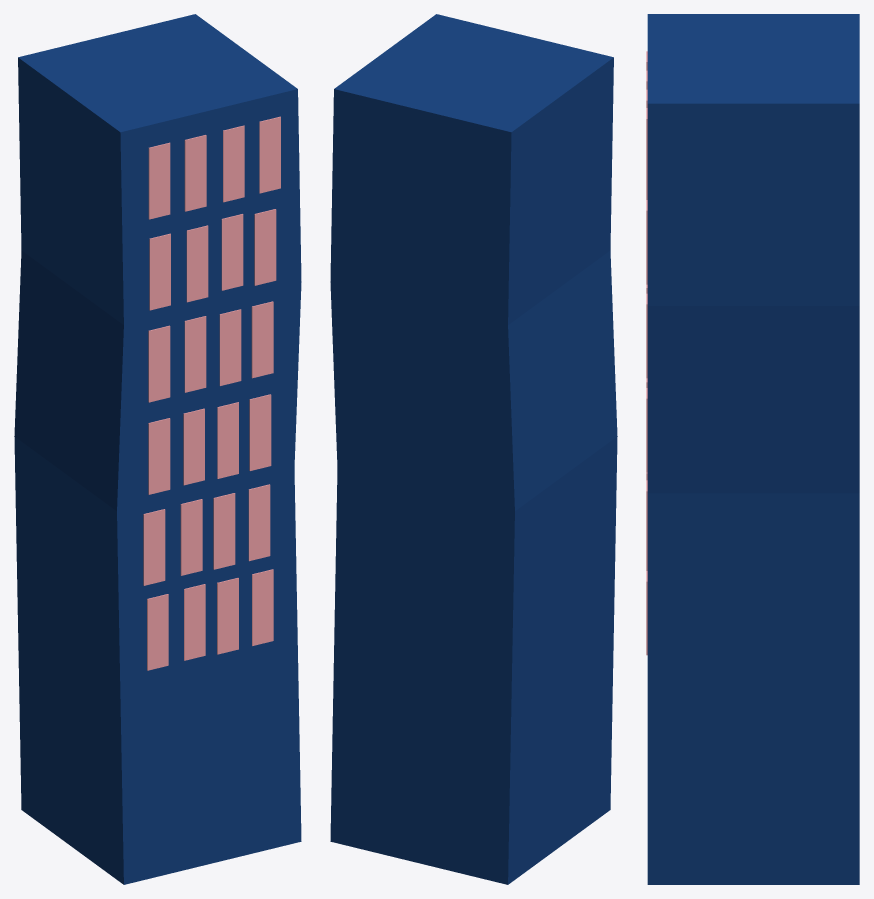
File: city.fbx
The picture shows the model from 3 angles, left to right: view 1: azimuth 30°, elevation 25°; view 2: azimuth 150°, elevation 25°; view 3: azimuth 270°, elevation 25°; orthographic projection. The views are drawn at different scales.
Parts seen in each view (by area): view 1: Cube, Cube.018, Cube.020, Cube.011, Cube.002, Cube.007, Cube.008, Cube.009, Cube.017, Cube.019, Cube.012, Cube.016 (+13 smaller); view 2: Cube; view 3: Cube.
Part boxes in pixels (x1,y1,x2,y2): Cube: (14, 14, 301, 884); Cube.018: (180, 499, 202, 575); Cube.020: (248, 484, 270, 561); Cube.011: (219, 309, 241, 385); Cube.002: (184, 135, 206, 211); Cube.007: (221, 214, 243, 290); Cube.008: (254, 209, 276, 285); Cube.009: (148, 325, 170, 402); Cube.017: (143, 509, 165, 585); Cube.019: (213, 493, 235, 569); Cube.012: (251, 301, 273, 378); Cube.016: (249, 394, 271, 470); Cube: (330, 14, 617, 884); Cube: (647, 14, 859, 884).
Bounding box in the file's own units: 208 × 811 × 201.
